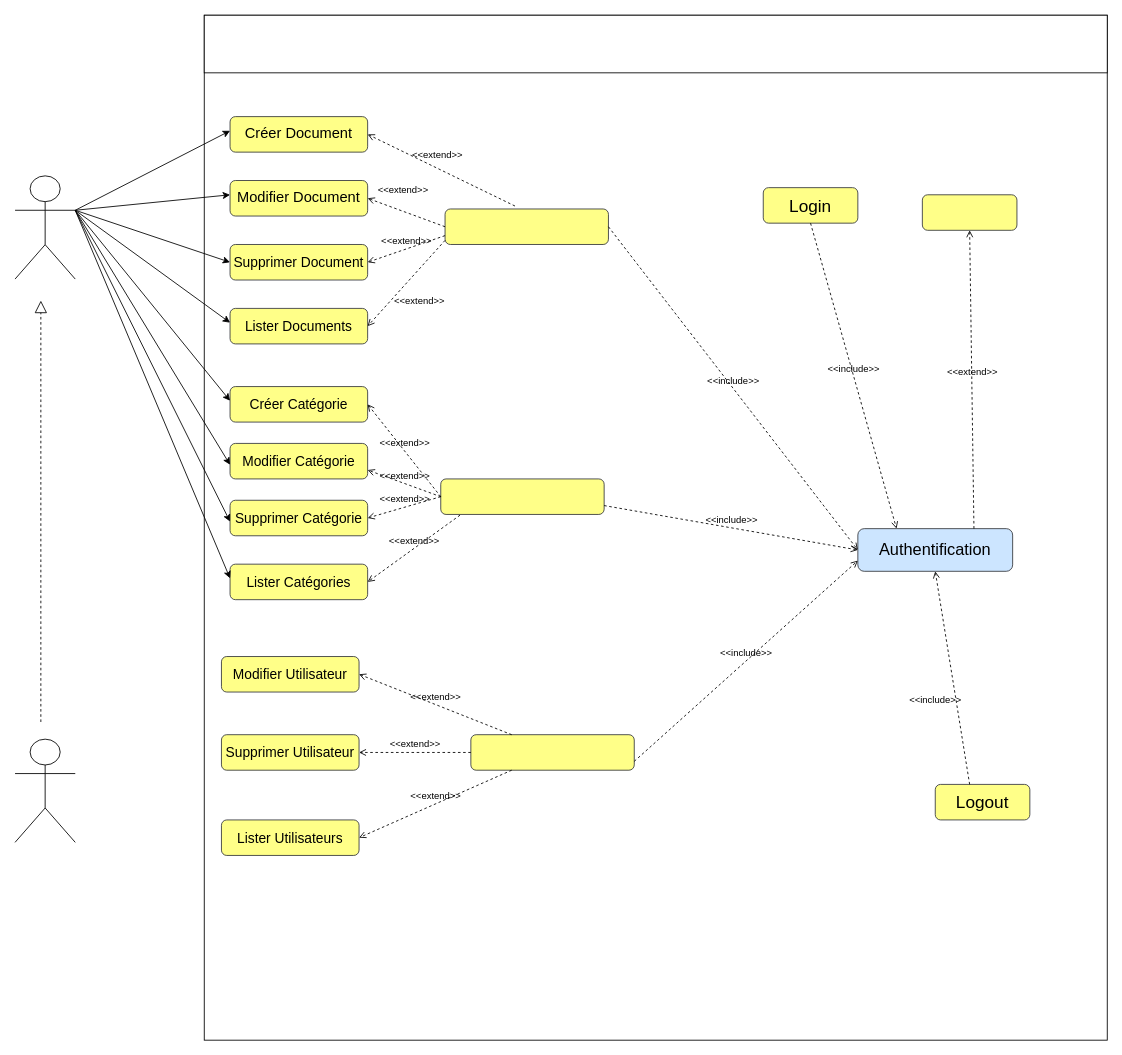
This 1122x1055 diagram has some shape labels left out. Each missing label, with the centre of its shape:
"Admin" goes at (44,790).
"Gérer les Catégories" goes at (522,496).
"Gérer les Documents" goes at (526,226).
"Gérer les Utilisateurs" goes at (552,752).
"Registers" goes at (969,212).
"Système de gestion de documents" goes at (655,43).
"User" goes at (44,227).
